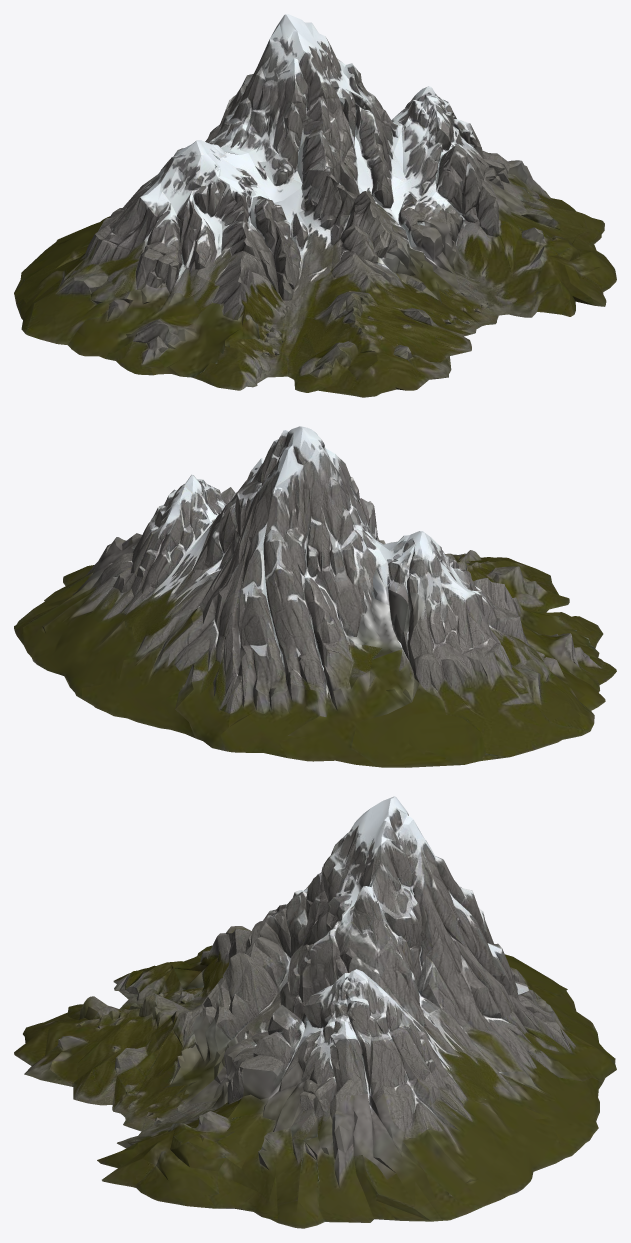
Rendered from mountain_a.glb.
The picture shows the model from 3 angles, top to bottom: view 1: azimuth 30°, elevation 25°; view 2: azimuth 150°, elevation 25°; view 3: azimuth 270°, elevation 25°; orthographic projection. The views are drawn at different scales.
Bounding box in the file's own units: 1.9 × 0.8088 × 1.58.
1 material, 1 textured.
